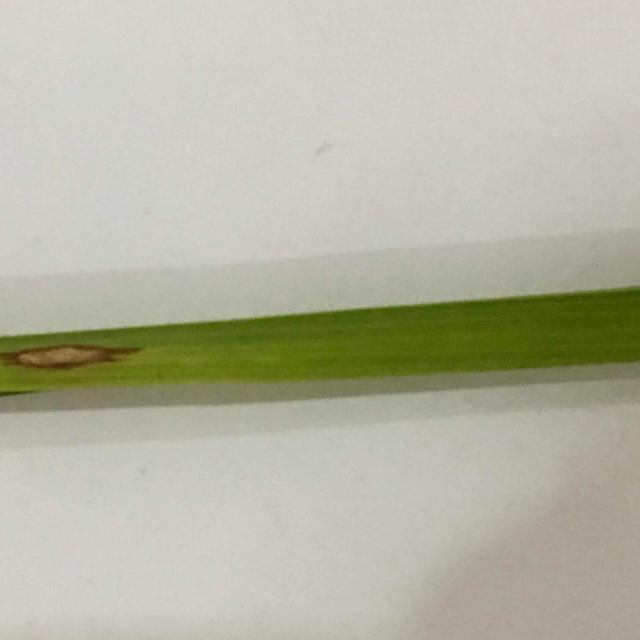Leaf_Blast: (0, 321, 145, 384)
